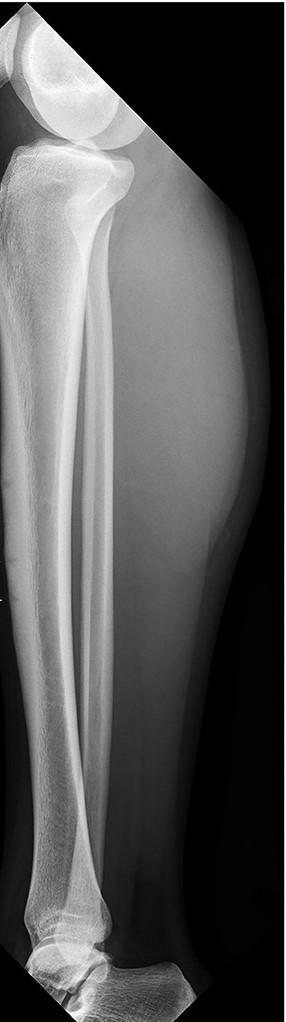fractured: (0, 467, 20, 504), (1, 550, 24, 574), (6, 590, 26, 617)
